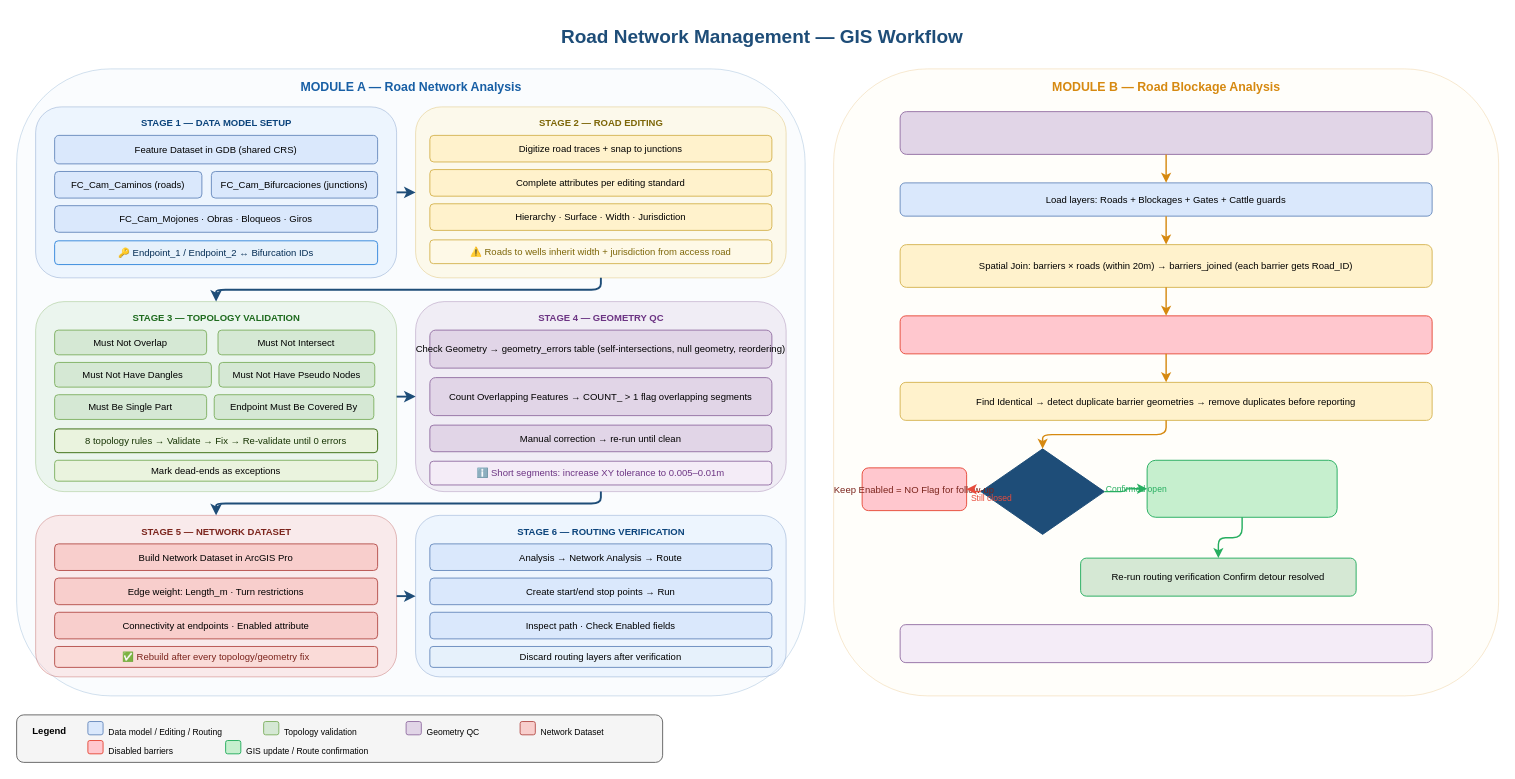
The diagram is 1515 pixels wide and 779 high, and some of its shapes have lost their labels. Here are the shapes that lost their labels. From the top down, the box of each, then its label:
(899, 111, 1432, 154): Geometry pre-check Check Geometry + Count Overlapping
(899, 315, 1432, 354): Filter: Enabled = "NO" → disabled barriers list
(980, 448, 1104, 534): Field / security confirmation?
(1146, 459, 1337, 517): Update GIS: Enabled = YES on barrier + road + bifurcation
(899, 624, 1432, 663): 🐍 blockage_analysis.py Automated detection + .xlsx report
